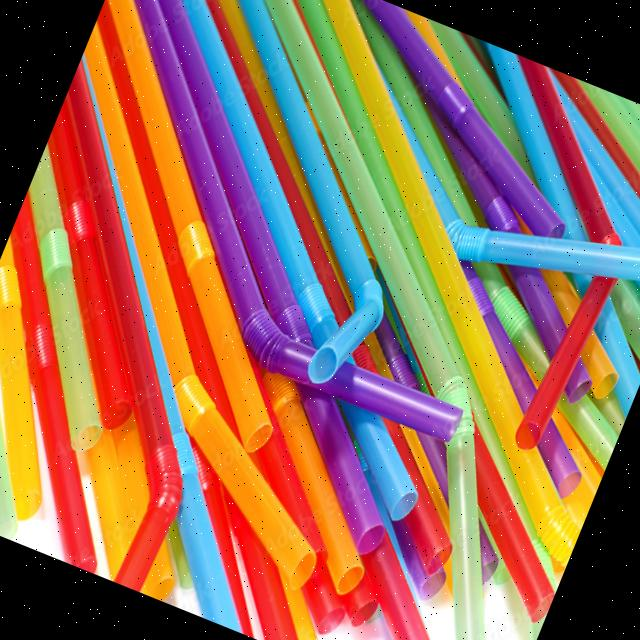plastic: (109, 0, 511, 459)
